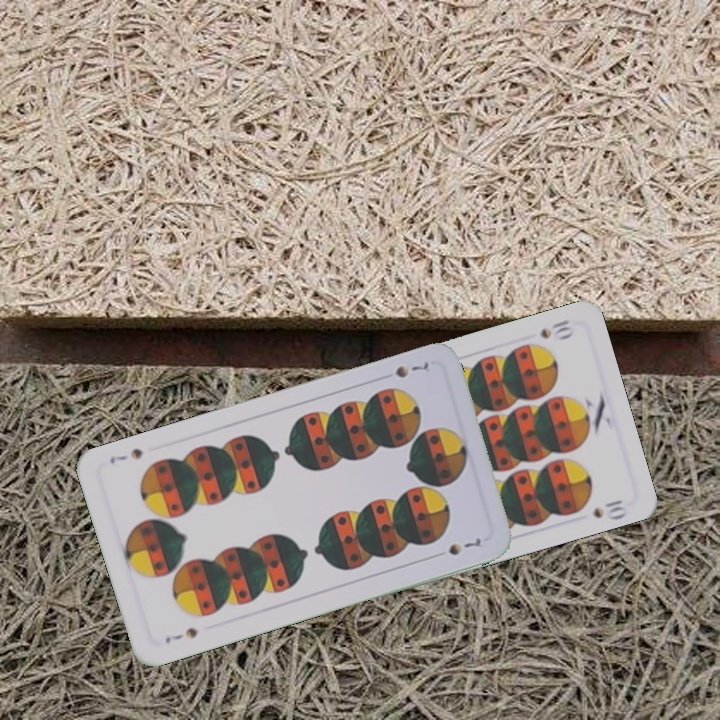S10: (535, 316, 577, 341)
S7: (161, 623, 202, 647), (391, 358, 433, 381)
